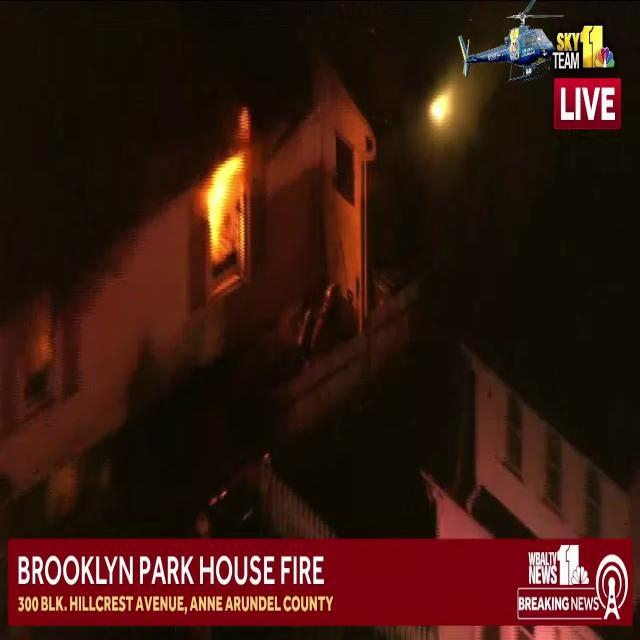Fire: (208, 102, 264, 266)
